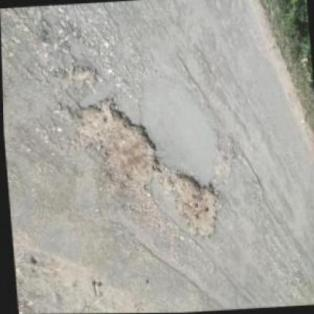Hueco: (76, 96, 160, 200), (165, 167, 224, 244), (68, 62, 97, 90)
